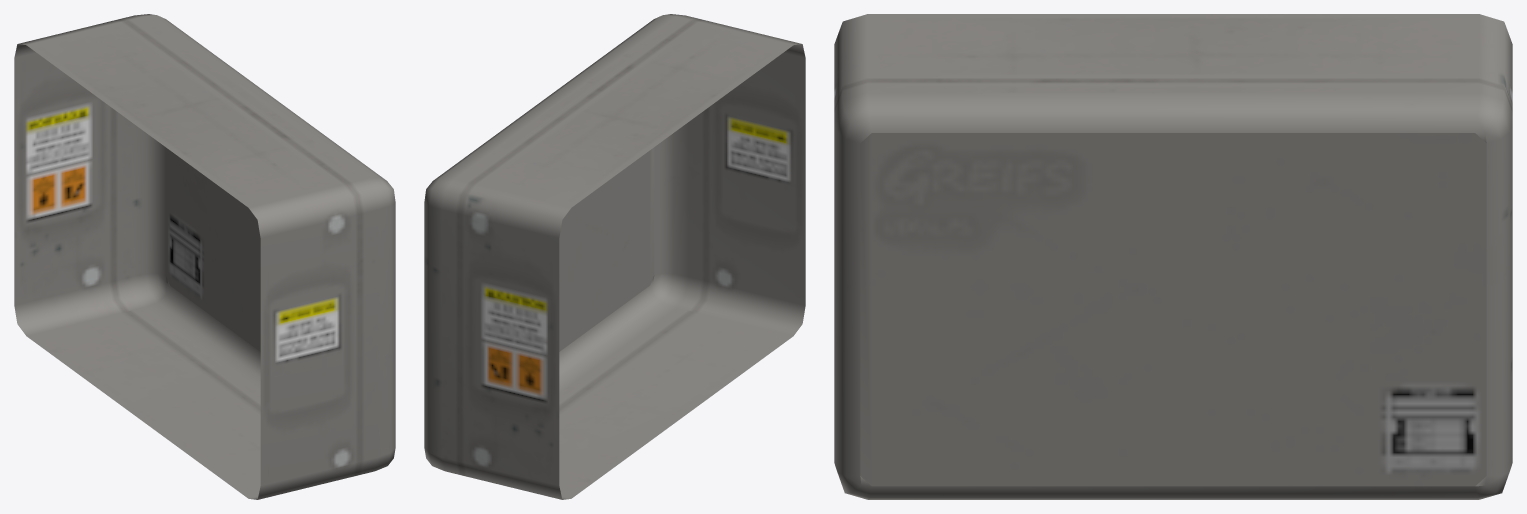
Rendered from SM_FuseBox_04.FBX.
The picture shows the model from 3 angles, left to right: view 1: azimuth 30°, elevation 25°; view 2: azimuth 150°, elevation 25°; view 3: azimuth 270°, elevation 25°; orthographic projection. The views are drawn at different scales.
Parts seen in each view (by area): view 1: SM_FuseBox_04; view 2: SM_FuseBox_04; view 3: SM_FuseBox_04.
Part boxes in pixels (<box>): SM_FuseBox_04: <box>14,14,395,499</box>; SM_FuseBox_04: <box>424,14,805,499</box>; SM_FuseBox_04: <box>834,14,1512,499</box>.
Size of what is drawn, in the model's own units: 11.06 by 33.24 by 21.67.
